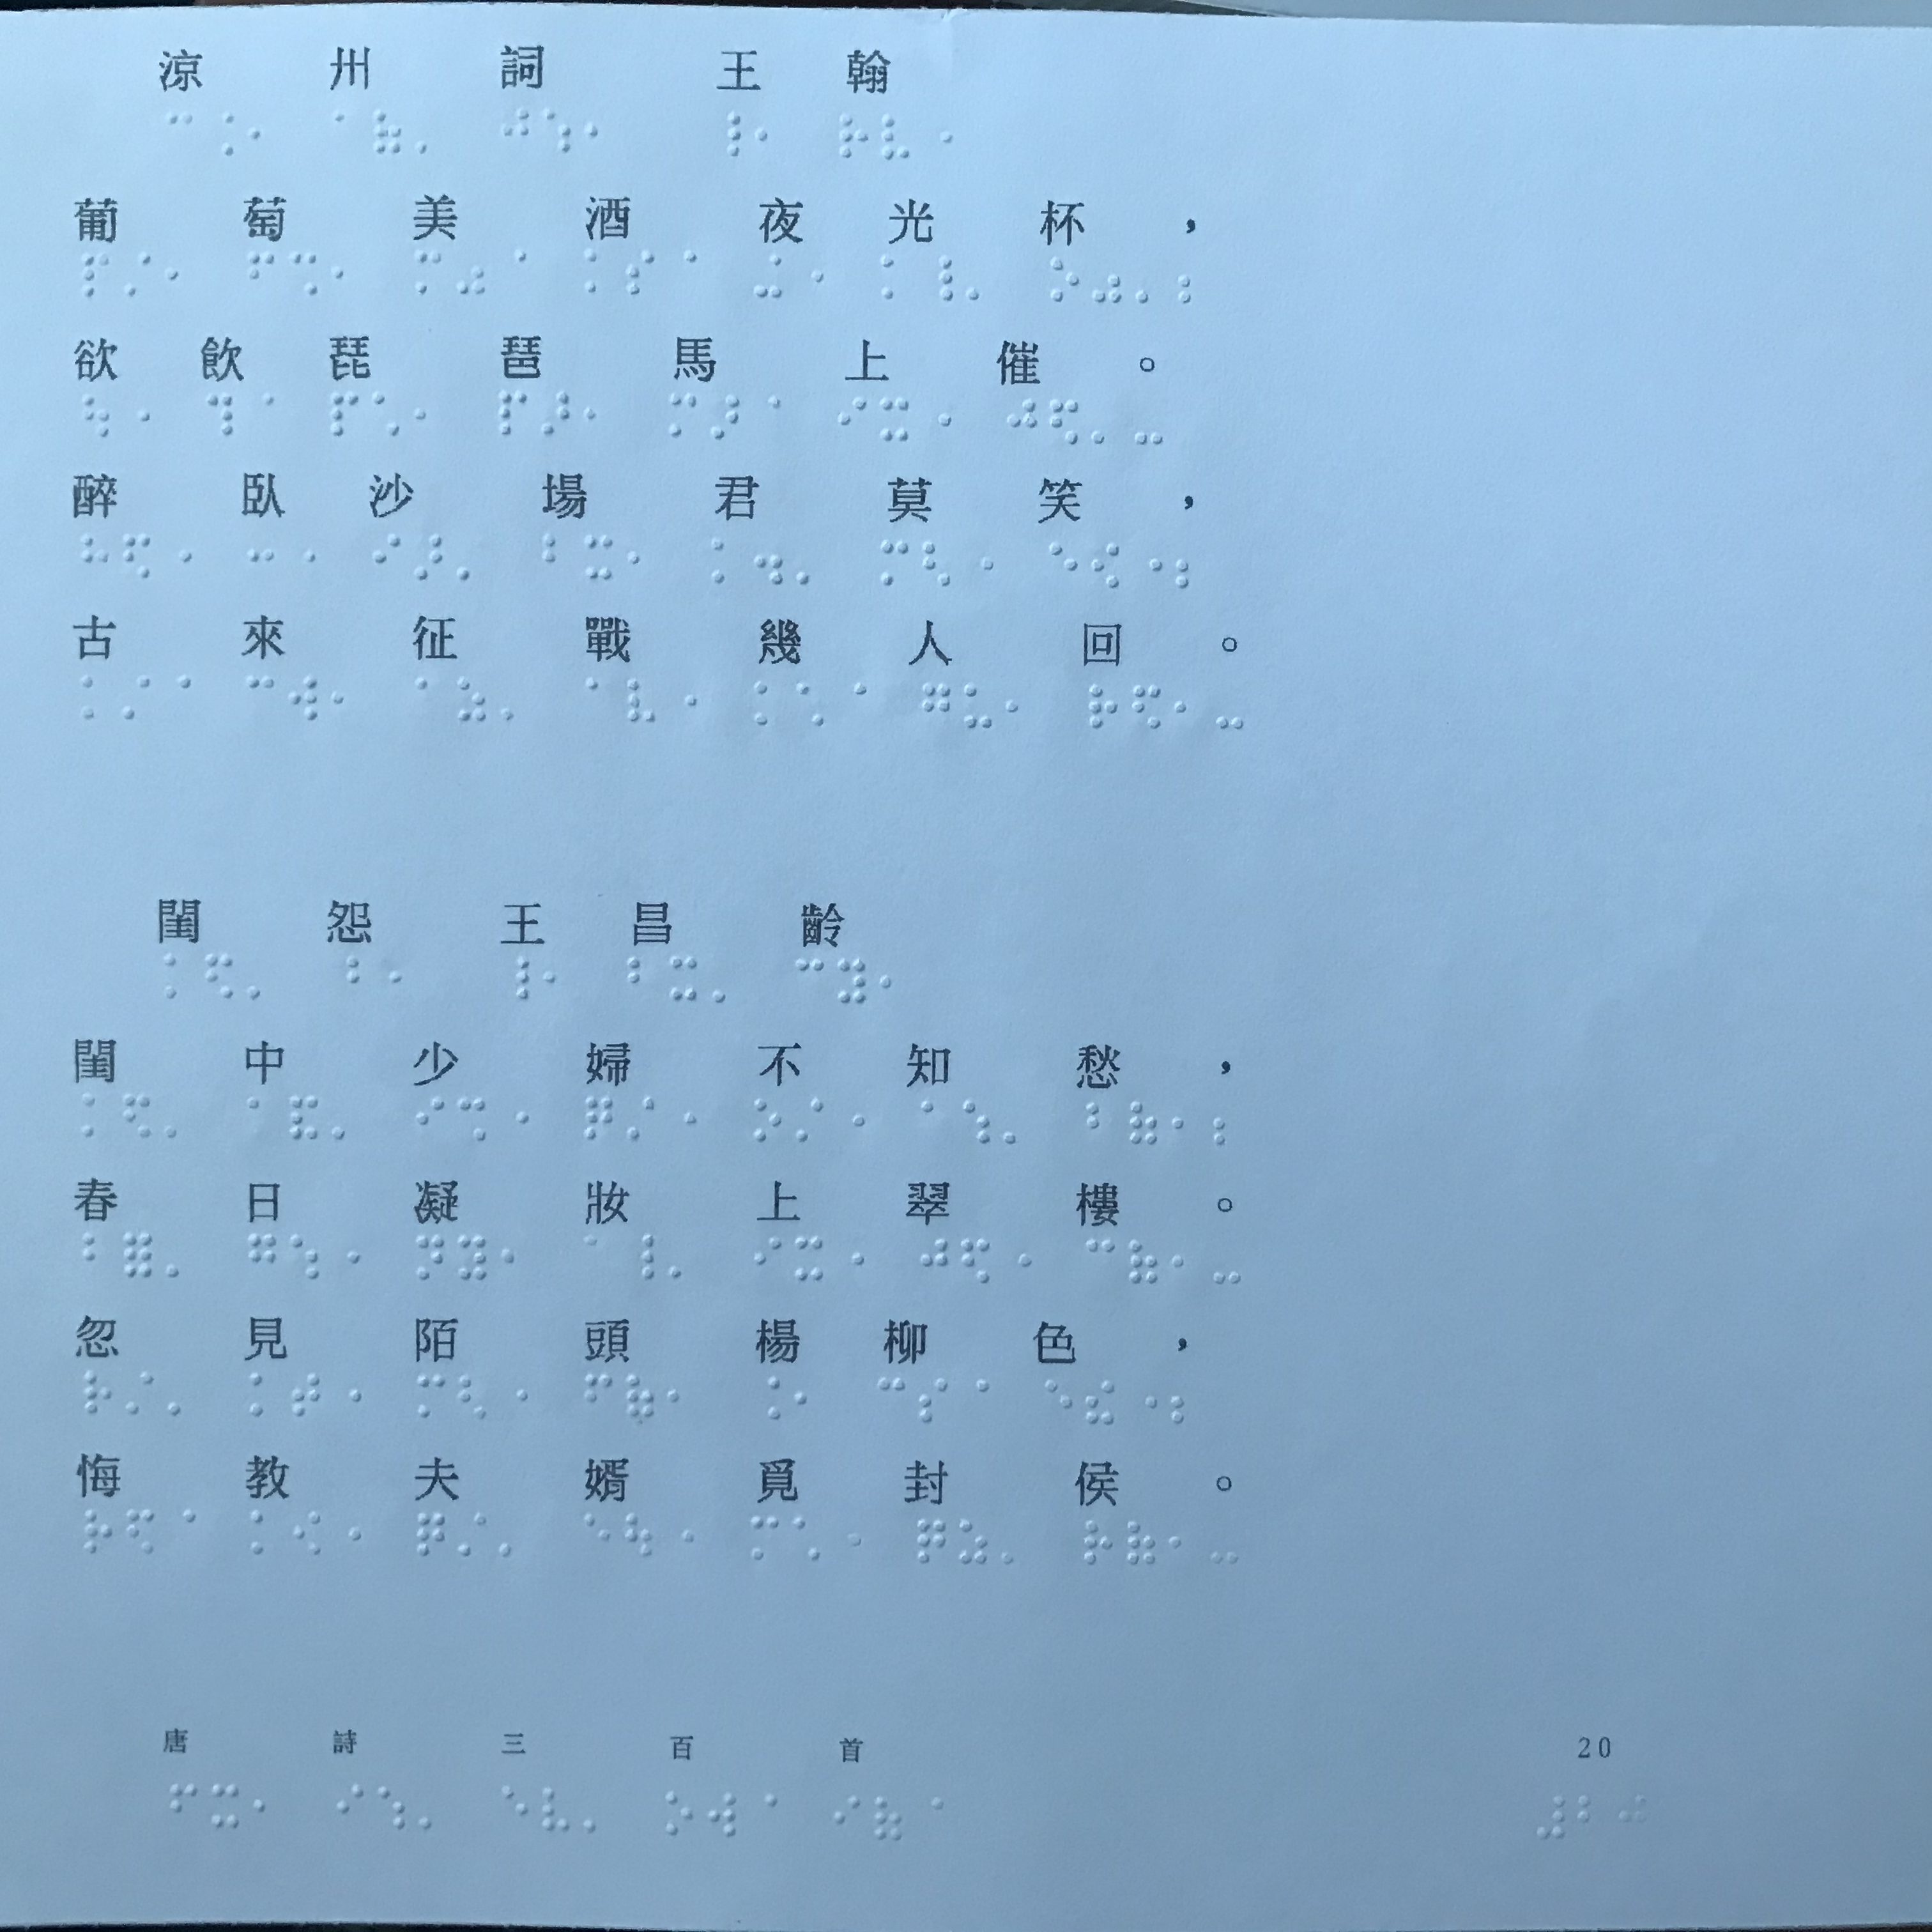Braille: (1049, 393, 1081, 449), (920, 678, 952, 732), (582, 533, 616, 584), (287, 1090, 320, 1141), (837, 389, 869, 442), (76, 529, 110, 579), (203, 954, 237, 1003), (791, 955, 824, 1005), (959, 1099, 993, 1148), (883, 108, 911, 166), (837, 106, 867, 161), (124, 527, 154, 582), (796, 1092, 826, 1146), (1005, 396, 1037, 448), (626, 531, 658, 582), (1086, 681, 1118, 732), (916, 1233, 948, 1284), (663, 1787, 695, 1838), (835, 957, 869, 1005), (412, 531, 442, 584), (1132, 679, 1162, 732), (713, 110, 745, 159), (752, 538, 784, 587), (582, 1093, 614, 1143), (1051, 251, 1079, 306), (754, 108, 784, 159), (455, 248, 485, 299), (373, 531, 403, 582), (669, 952, 699, 1003), (837, 1095, 867, 1146), (416, 1231, 446, 1283), (876, 1373, 906, 1424), (881, 396, 913, 444), (244, 533, 276, 580), (456, 1093, 488, 1141), (1127, 1097, 1159, 1145), (1619, 1792, 1651, 1840), (373, 108, 403, 157), (499, 387, 529, 437), (881, 538, 911, 587), (925, 538, 955, 587), (501, 954, 531, 1003), (752, 1095, 782, 1145), (752, 1233, 782, 1283), (794, 1233, 824, 1283), (1129, 1235, 1159, 1284), (83, 1368, 113, 1417), (209, 1782, 239, 1831), (874, 1796, 904, 1845), (962, 1233, 989, 1288), (925, 255, 954, 306), (541, 386, 570, 437), (1138, 398, 1166, 449), (711, 533, 740, 584), (1093, 538, 1122, 589), (626, 674, 655, 725), (752, 1511, 780, 1562), (1085, 1518, 1113, 1569), (251, 1780, 280, 1831), (290, 249, 320, 297), (711, 391, 741, 439), (625, 1093, 655, 1141), (586, 1233, 616, 1281), (1214, 1240, 1244, 1288), (124, 1368, 154, 1415), (1095, 255, 1122, 308), (1177, 538, 1203, 591), (166, 111, 195, 161), (501, 103, 529, 152), (81, 249, 110, 299), (412, 391, 441, 441), (924, 395, 952, 444), (545, 534, 573, 584), (80, 671, 108, 720), (752, 678, 780, 727), (962, 681, 991, 731), (124, 1088, 152, 1138), (667, 1095, 695, 1145), (292, 1233, 320, 1283), (460, 1233, 488, 1283), (499, 1233, 527, 1283), (460, 1375, 488, 1424), (918, 1514, 947, 1564), (122, 672, 152, 718), (246, 674, 276, 720), (248, 1235, 278, 1281), (628, 1231, 655, 1283), (1173, 1375, 1200, 1426), (333, 108, 361, 156), (543, 106, 571, 154), (1180, 255, 1208, 303), (207, 389, 235, 437), (331, 389, 359, 437), (586, 389, 614, 437), (455, 534, 483, 582), (796, 538, 824, 586), (1049, 541, 1077, 589), (163, 669, 191, 717), (584, 674, 612, 722), (669, 676, 697, 724), (124, 1231, 152, 1279), (292, 1369, 320, 1417), (1086, 1378, 1115, 1426), (83, 1509, 111, 1557), (127, 1509, 156, 1557), (961, 1518, 989, 1566), (1129, 1518, 1157, 1566), (709, 1790, 738, 1838), (1539, 1792, 1568, 1840), (331, 954, 361, 998), (501, 1095, 531, 1139), (165, 1237, 195, 1281), (458, 1513, 488, 1557), (416, 249, 442, 299), (460, 674, 487, 724), (840, 678, 867, 727), (1005, 679, 1030, 732), (80, 1090, 106, 1139), (669, 1233, 695, 1283), (837, 1233, 863, 1283), (418, 1369, 444, 1419), (1047, 1378, 1074, 1428), (543, 1785, 570, 1835), (248, 248, 276, 294), (626, 249, 655, 295), (755, 253, 784, 299), (883, 255, 911, 301), (669, 391, 697, 437), (287, 676, 315, 722), (798, 681, 826, 727), (1086, 1099, 1115, 1145), (918, 1375, 947, 1421), (1138, 255, 1162, 306), (1219, 683, 1244, 734), (83, 1226, 108, 1277), (209, 111, 235, 159), (124, 251, 150, 299), (168, 531, 195, 579), (288, 533, 315, 580), (968, 541, 994, 589), (1136, 540, 1162, 587), (628, 955, 655, 1003), (586, 1371, 612, 1419), (628, 1371, 655, 1419), (295, 1507, 322, 1555), (752, 393, 780, 437), (501, 676, 529, 720), (416, 1095, 444, 1139), (625, 1513, 653, 1557), (336, 1780, 364, 1824), (377, 1785, 405, 1829), (373, 389, 398, 439), (1169, 1097, 1194, 1146), (915, 1799, 945, 1840), (587, 106, 614, 152), (1212, 1099, 1238, 1145), (1088, 1237, 1115, 1283), (1168, 1237, 1194, 1283), (1132, 1378, 1159, 1424), (419, 1511, 446, 1557), (794, 1516, 821, 1562), (83, 396, 111, 439), (373, 955, 402, 998), (166, 251, 191, 299), (1092, 398, 1116, 446), (920, 1099, 945, 1146), (1005, 1237, 1030, 1284), (755, 1373, 780, 1421), (1175, 679, 1198, 731), (501, 249, 527, 294), (669, 249, 695, 294), (798, 253, 824, 297), (329, 676, 356, 720), (163, 1095, 189, 1139), (168, 1511, 195, 1555), (331, 1237, 359, 1277), (414, 110, 439, 156), (931, 113, 954, 163), (333, 248, 356, 297), (1001, 1102, 1026, 1148), (251, 1371, 276, 1417), (338, 1373, 363, 1419), (504, 1373, 527, 1422), (964, 1375, 989, 1421), (837, 1516, 862, 1562), (502, 1785, 527, 1831), (1580, 1794, 1605, 1840), (248, 955, 274, 998), (249, 1095, 276, 1138), (1210, 1523, 1237, 1566), (248, 111, 271, 159), (416, 674, 439, 722), (545, 954, 568, 1001), (879, 957, 902, 1005), (165, 1369, 188, 1417), (665, 1373, 688, 1421), (968, 257, 993, 301), (251, 391, 276, 435), (331, 1097, 356, 1141), (172, 1785, 196, 1829), (418, 1787, 442, 1831), (667, 1516, 694, 1557), (835, 1794, 862, 1835), (166, 952, 189, 998), (711, 959, 734, 1005), (253, 1509, 276, 1555), (586, 1511, 610, 1553), (580, 1790, 605, 1833), (501, 1513, 524, 1557), (1168, 1520, 1191, 1564), (126, 396, 150, 437), (752, 1794, 777, 1835), (587, 248, 609, 294), (340, 1509, 361, 1555), (1001, 1520, 1023, 1566), (794, 1373, 814, 1422)
